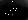person: (11, 8, 16, 19)
